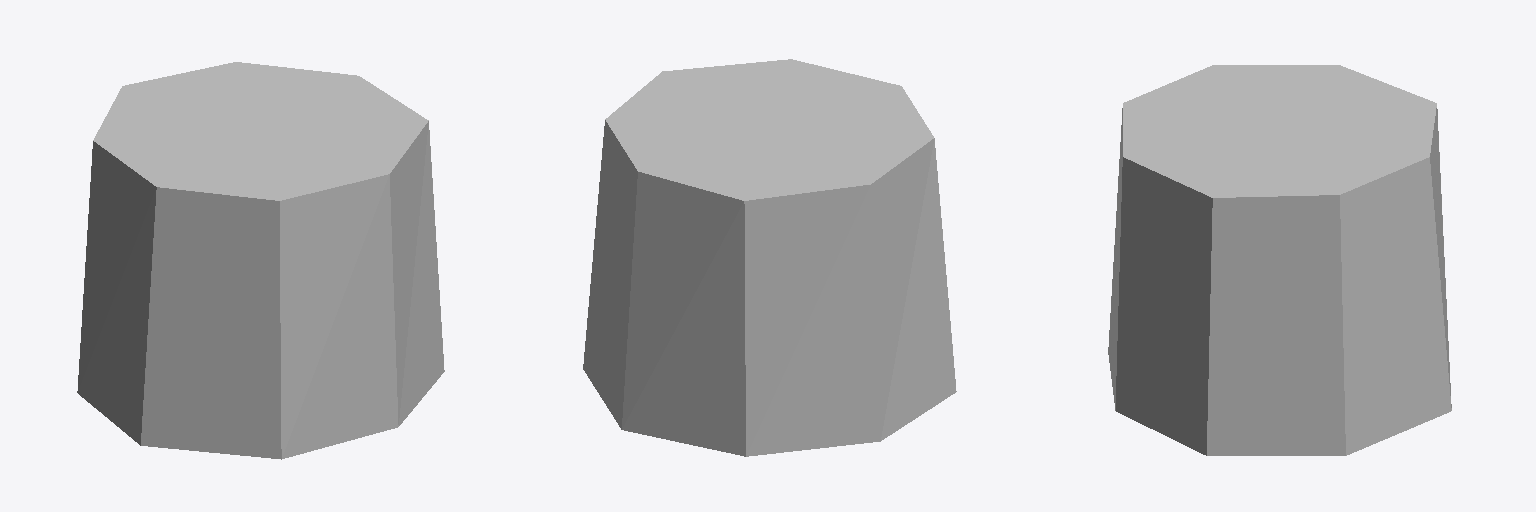
The model's file is smooth_log_seat.obj.
The picture shows the model from 3 angles: view 1: azimuth 30°, elevation 25°; view 2: azimuth 150°, elevation 25°; view 3: azimuth 270°, elevation 25°; orthographic projection.
Visible parts, largest first — view 1: cylinder; view 2: cylinder; view 3: cylinder.
Part boxes in pixels (x1,y1,x2,y2): cylinder: (77, 62, 444, 459); cylinder: (583, 59, 956, 456); cylinder: (1108, 65, 1451, 455).
Size of the model in its own units: 0.75 by 0.5938 by 0.7344.